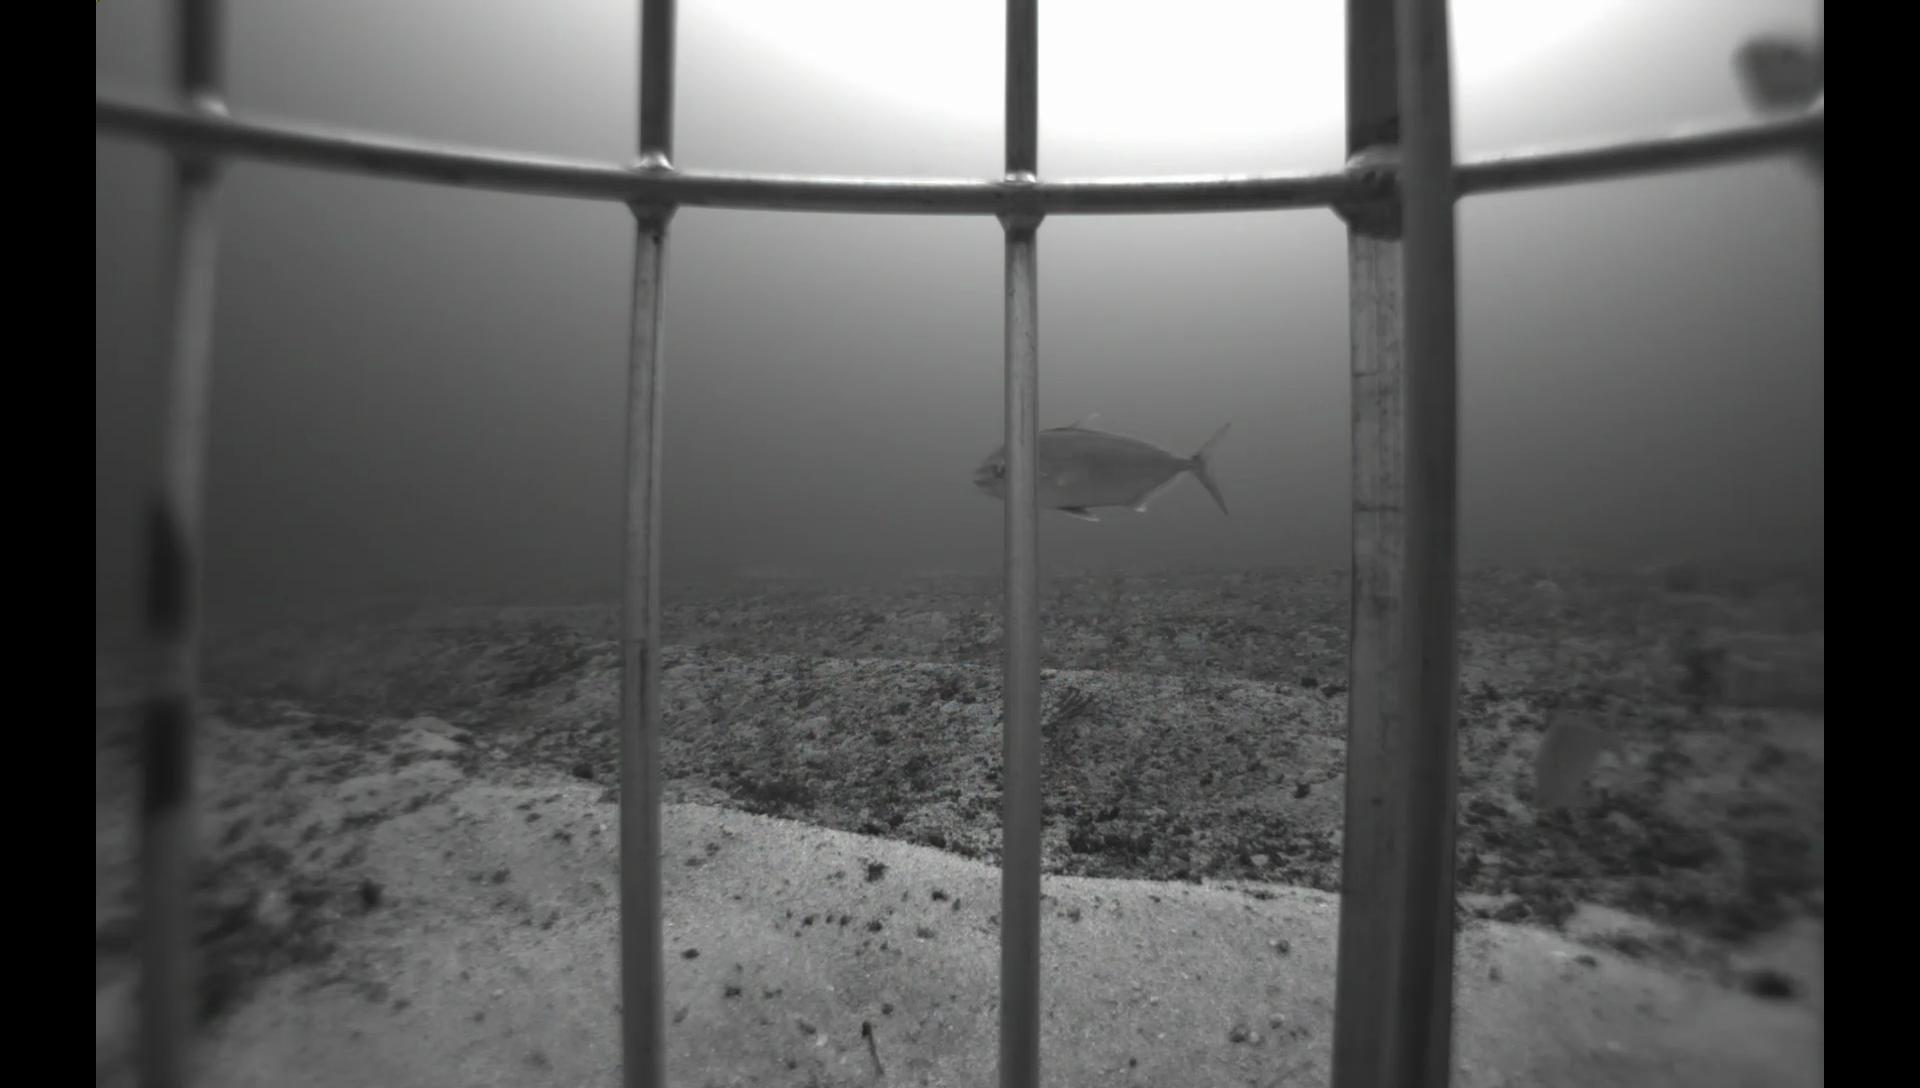CALAMUSPRORIDENS-170210605: (1513, 692, 1652, 820)
RHOMBOPLITESAURORUBENS-170152001: (1720, 26, 1824, 196)
SERIOLAFASCIATA-170113103: (968, 406, 1242, 525)
